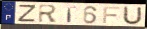6: (83, 5, 99, 25)
F: (102, 6, 121, 25)
R: (38, 4, 59, 23)
T: (62, 6, 78, 24)
U: (122, 6, 143, 26)
Z: (16, 4, 38, 23)
